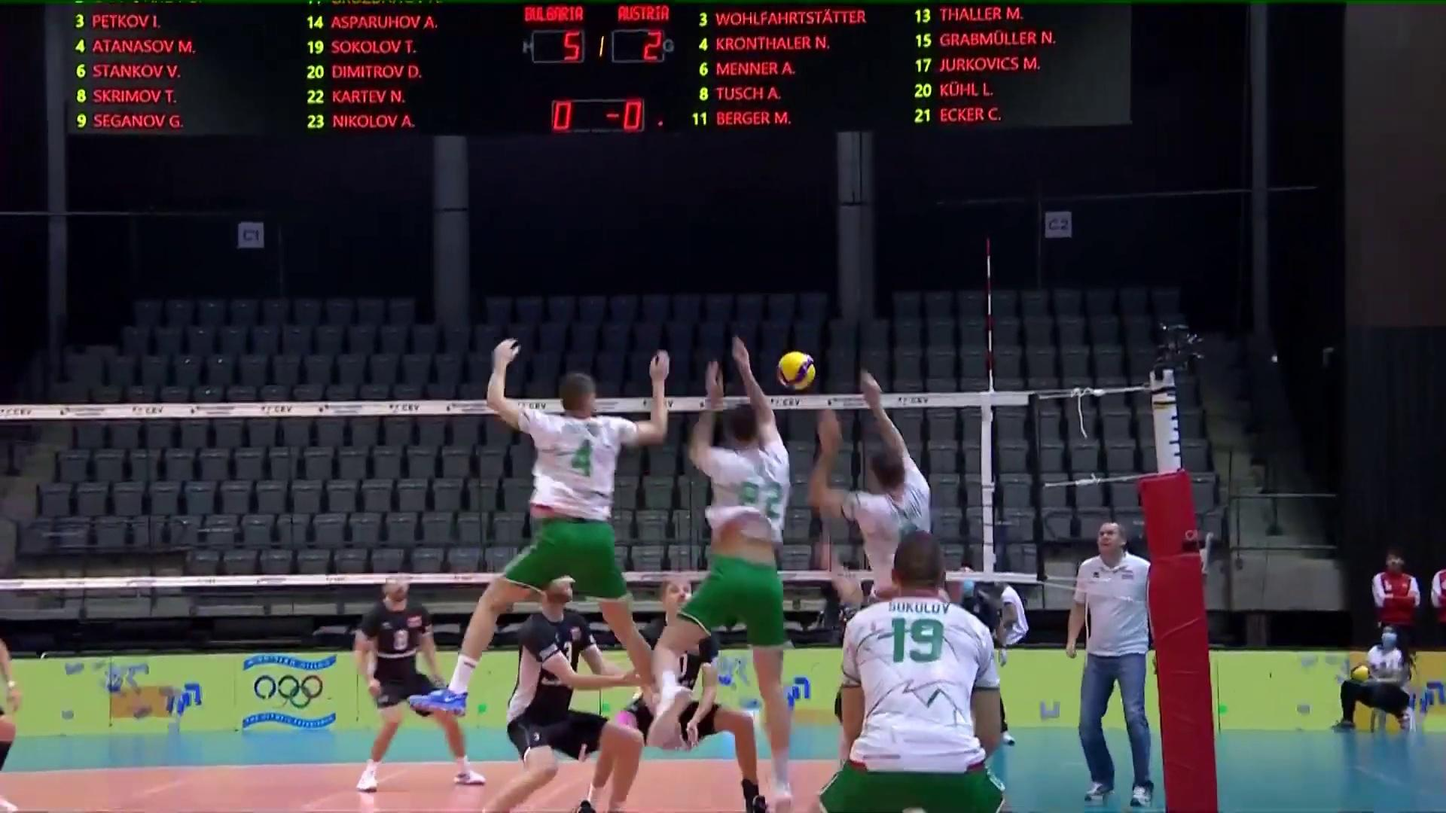ball: (775, 350, 818, 391)
